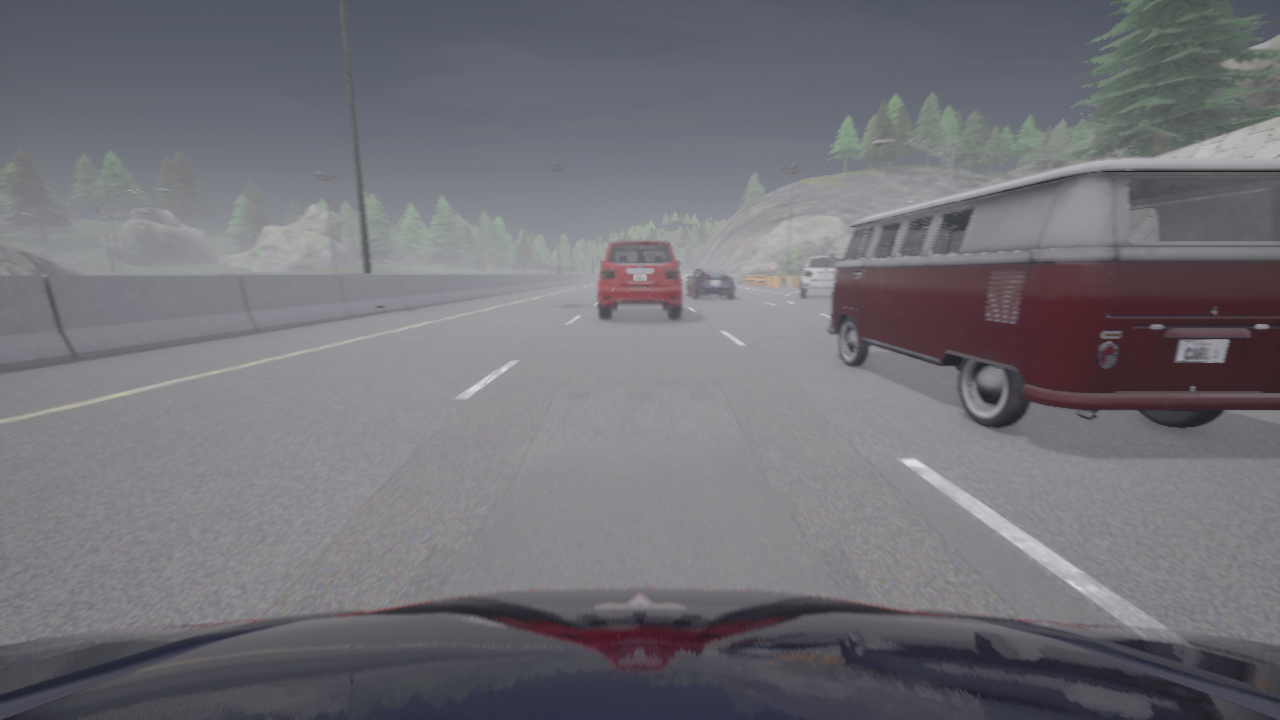cyclist: (0, 588, 1279, 719), (828, 158, 1279, 427), (598, 240, 681, 318), (799, 256, 842, 297), (686, 268, 733, 298)
